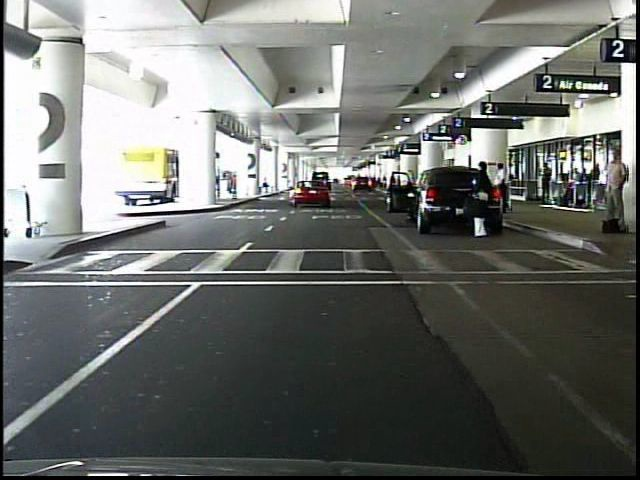person: (469, 163, 494, 243), (490, 162, 510, 217), (539, 162, 551, 205)
